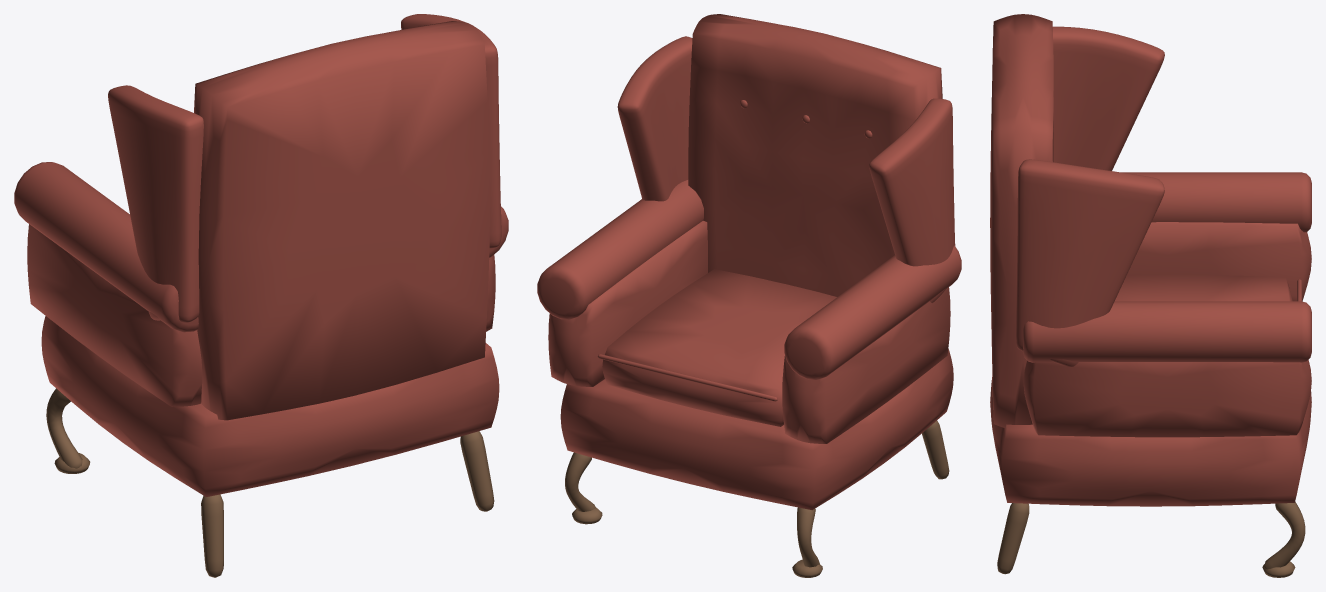
Rendered from wing_chair.glb.
The picture shows the model from 3 angles, left to right: view 1: azimuth 30°, elevation 25°; view 2: azimuth 150°, elevation 25°; view 3: azimuth 270°, elevation 25°; orthographic projection. The views are drawn at different scales.
Parts seen in each view (by area): view 1: wing_chair; view 2: wing_chair; view 3: wing_chair.
Part boxes in pixels (x1,y1,x2,y2): wing_chair: (14, 14, 508, 577); wing_chair: (537, 14, 961, 577); wing_chair: (990, 14, 1311, 577).
Size of the model in its own units: 0.8877 by 1.22 by 0.78.
